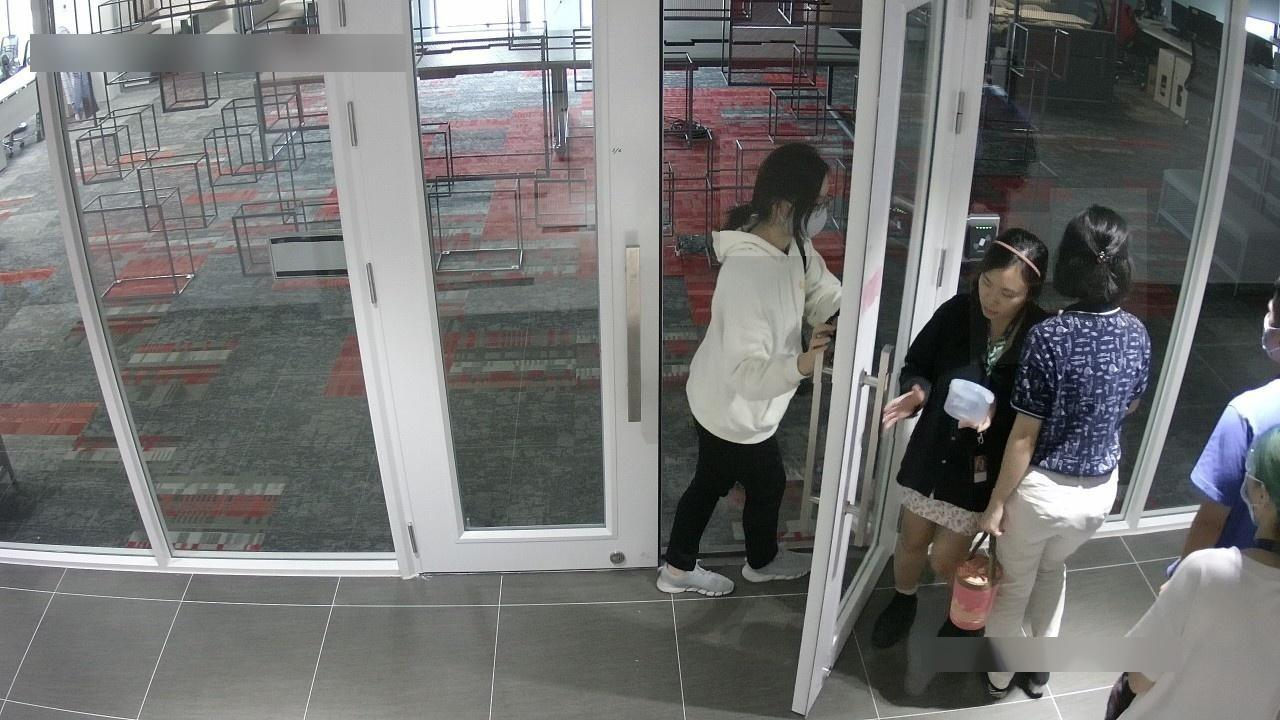mask: (785, 175, 835, 243)
no_apron: (879, 373, 937, 438), (797, 316, 841, 384), (973, 488, 1017, 556)
no_gloves: (720, 137, 844, 257), (1051, 189, 1148, 322), (970, 213, 1052, 365)
no_hairnet: (977, 264, 1027, 323)
